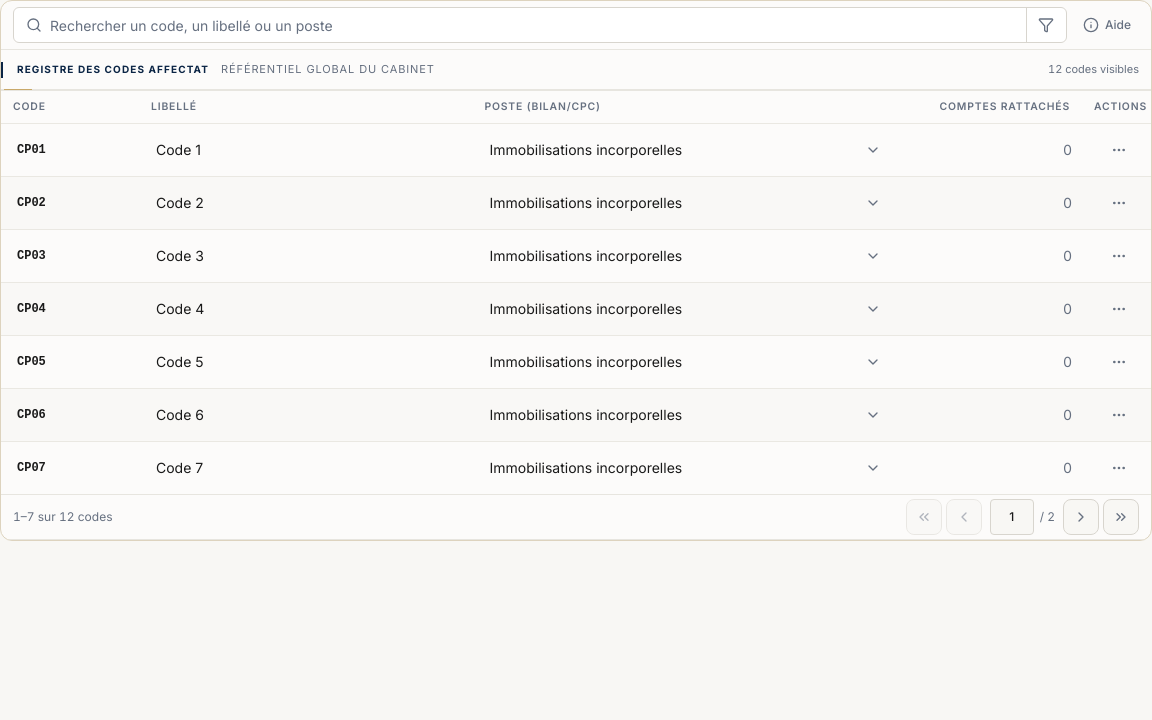
Test: global AFFECTAT mapping safeguards › searches before pagination and distinguishes filtered empty results
Click the button named "Page suivante" at (1081, 516), box [1063,498,1099,534]
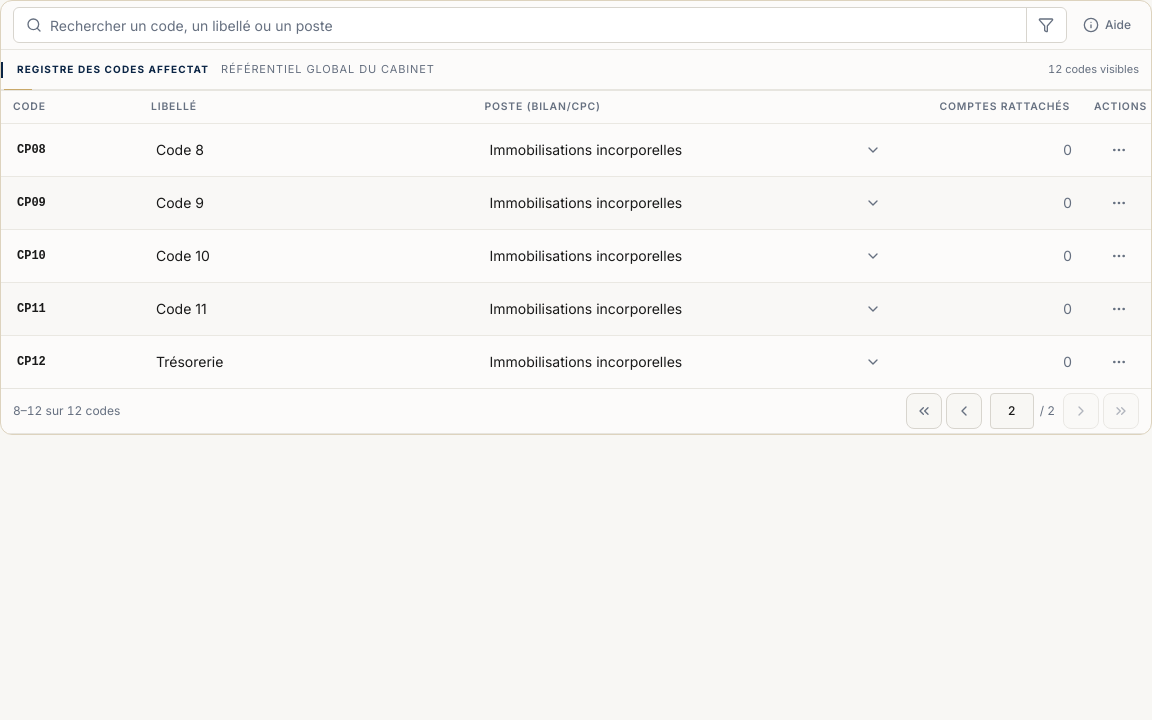
Type "trésorerie" into the field named "Rechercher un code, un libellé ou un poste AFFECTAT" at (534, 25), box [42,8,1026,42]
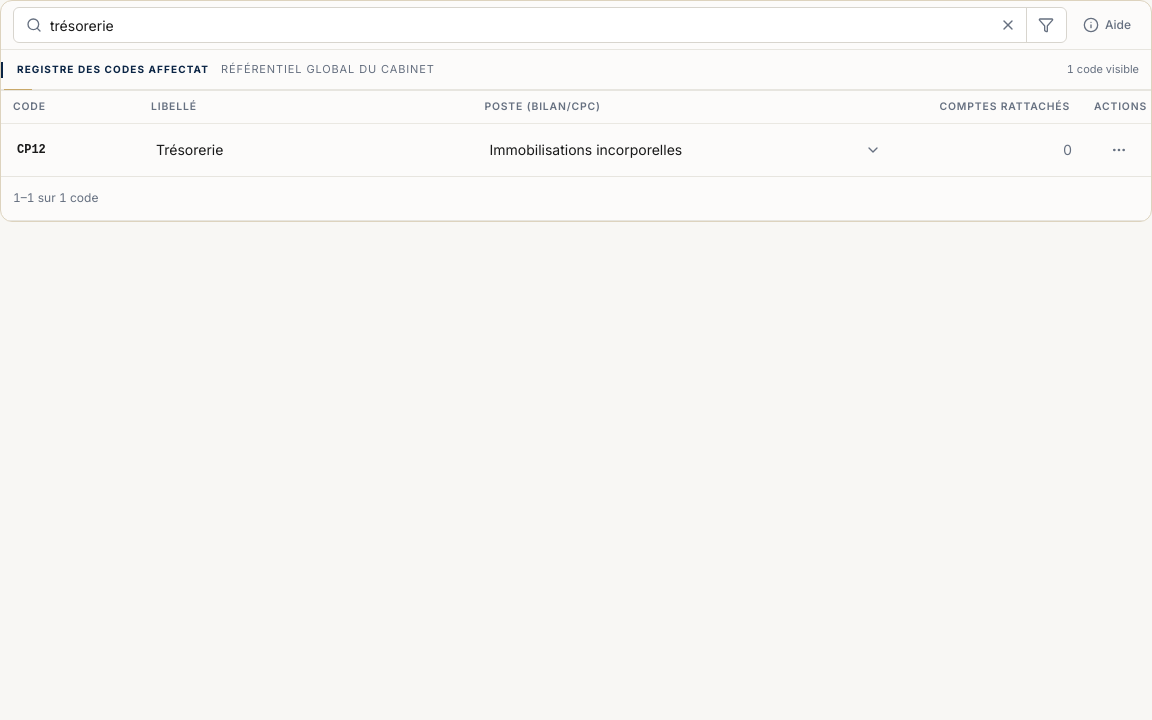
expect the text "CP12" is shown: met, box [1,123,139,176]
expect the text "1–1 sur 1 code" is shown: met, box [13,190,98,206]
Replace the text in the field named "Rechercher un code, un libellé ou un poste AFFECTAT" with "introuvable" at (516, 25), box [42,8,990,42]
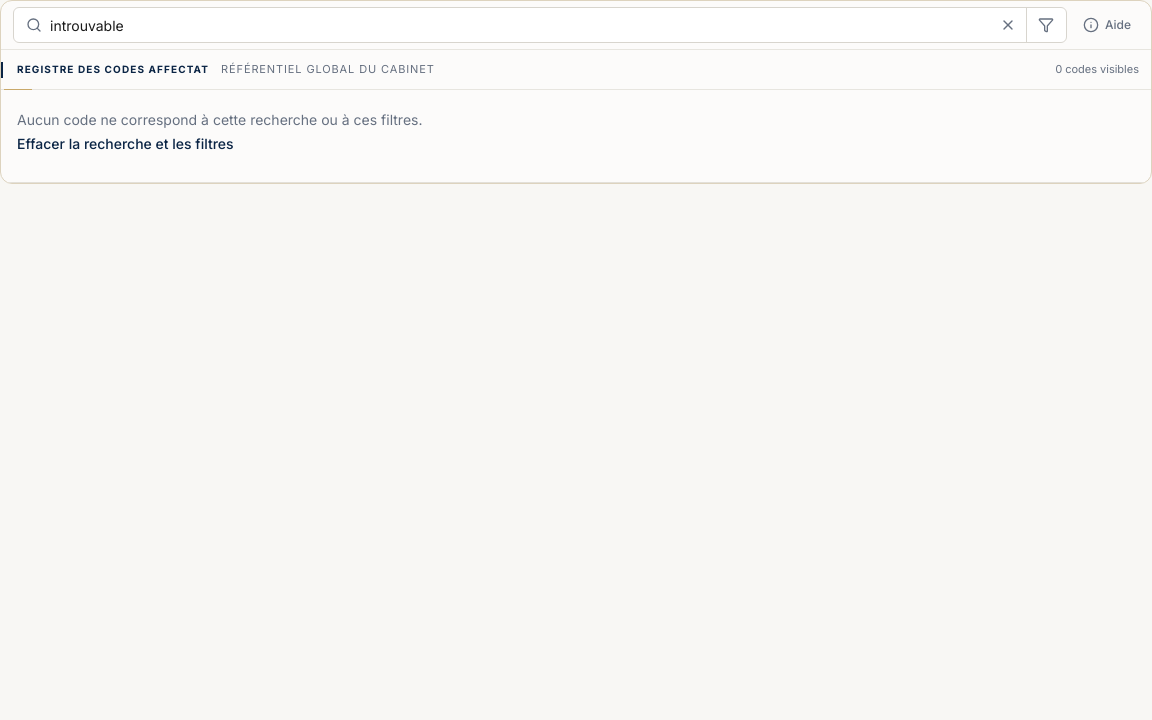
expect the text "Aucun code ne correspond à cette recherche ou à ces filtres." is shown: met, box [17,111,422,128]
